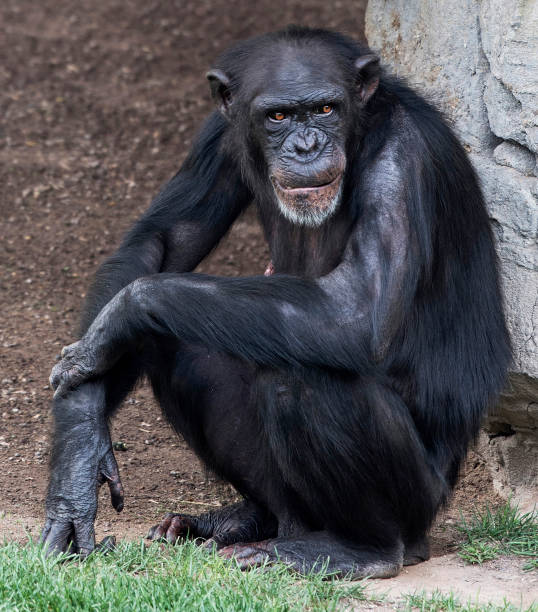chimpanzee: (158, 25, 395, 259)
